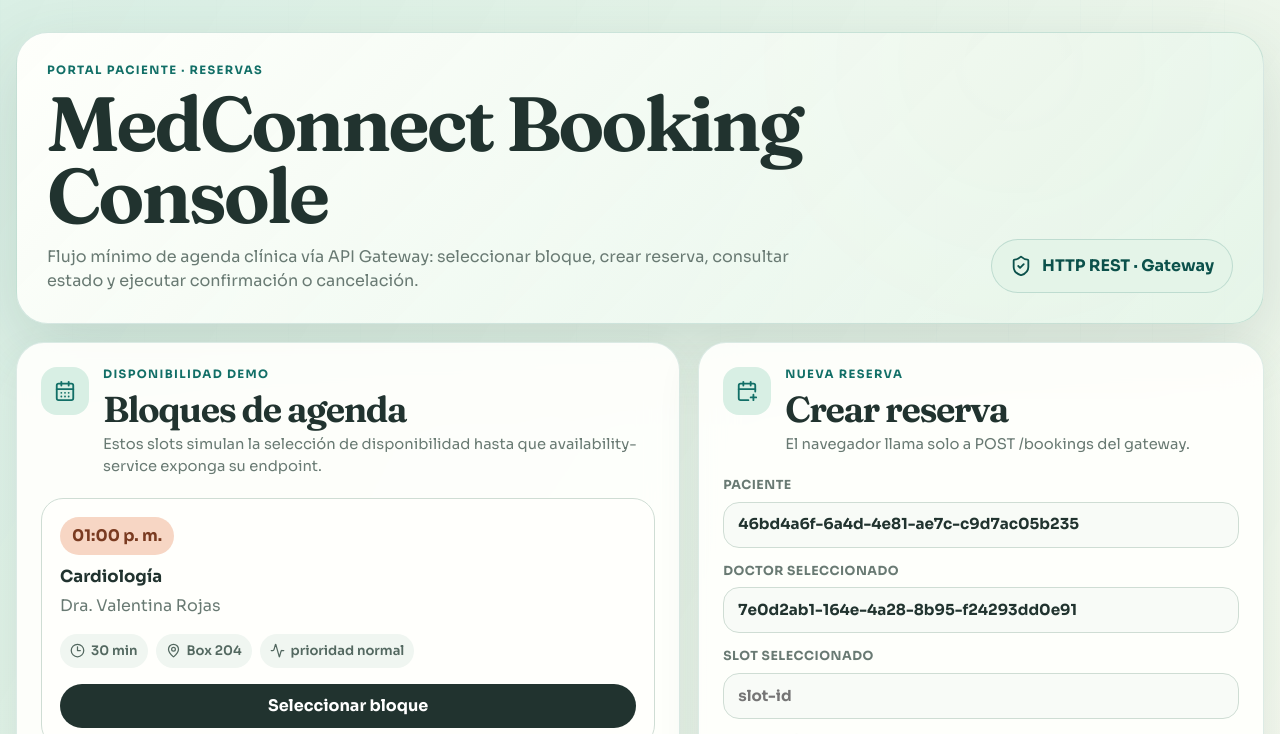
it: App › allows a patient to select a slot and manage a booking through the gateway
Click the button with aria-label "seleccionar bloque cardiología" at (348, 706), box [60,684,636,728]
(page scrolled)
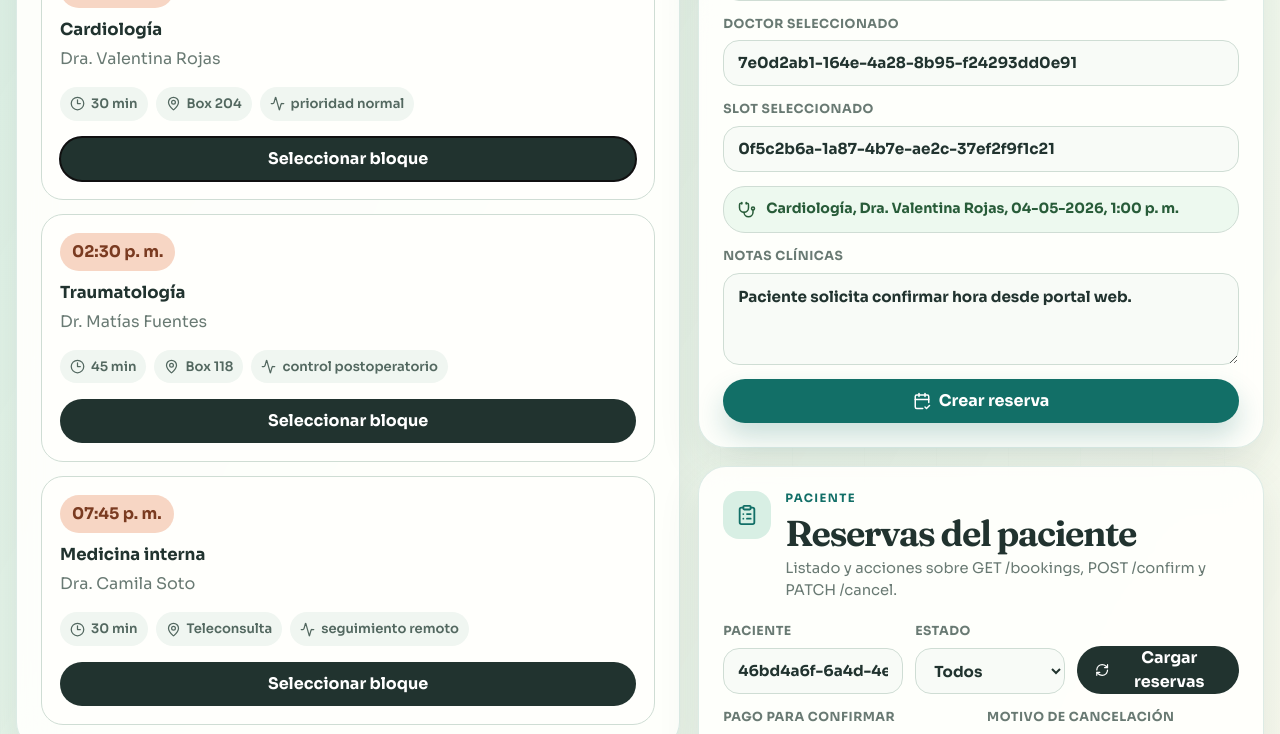
Now the field labelled "Slot seleccionado" holds "0f5c2b6a-1a87-4b7e-ae2c-37ef2f9f1c21", box [723,126,1239,172]
Click the button "Crear reserva" at (981, 401), box [723,379,1239,423]
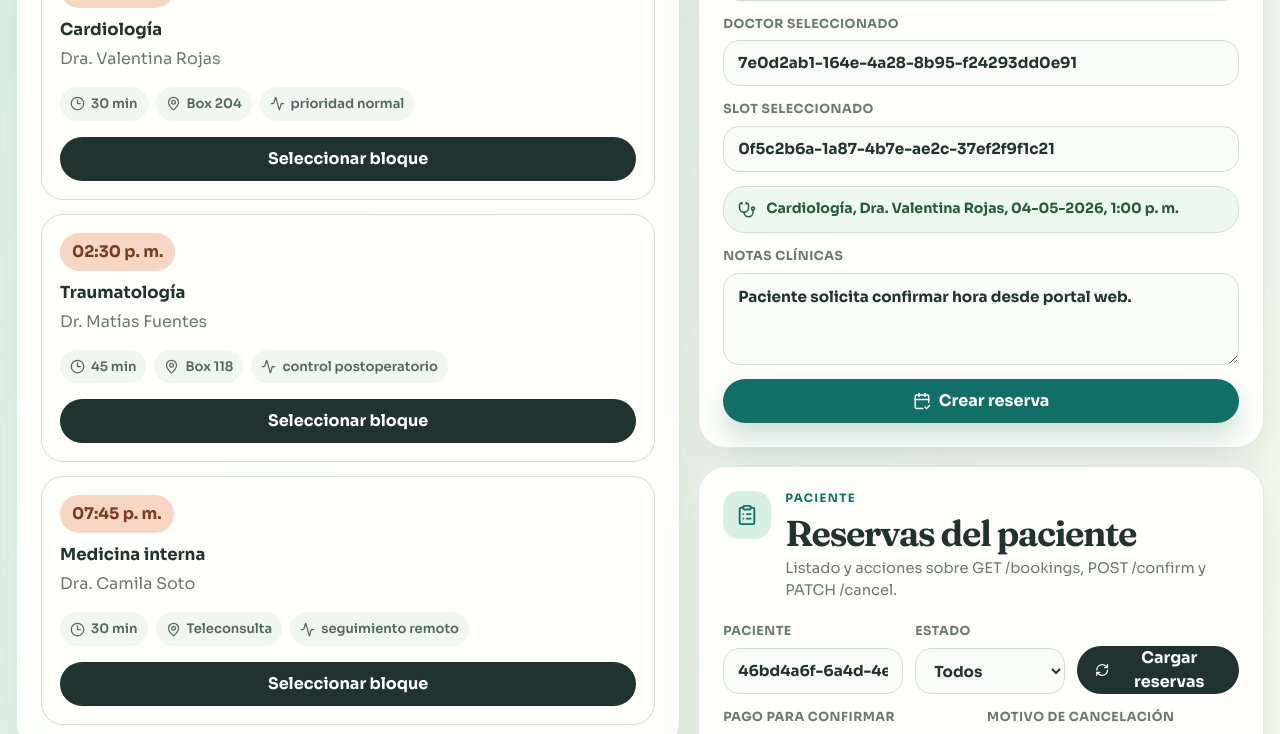
Click the button "Cargar reservas" at (1158, 670), box [1077,646,1239,694]
(page scrolled)
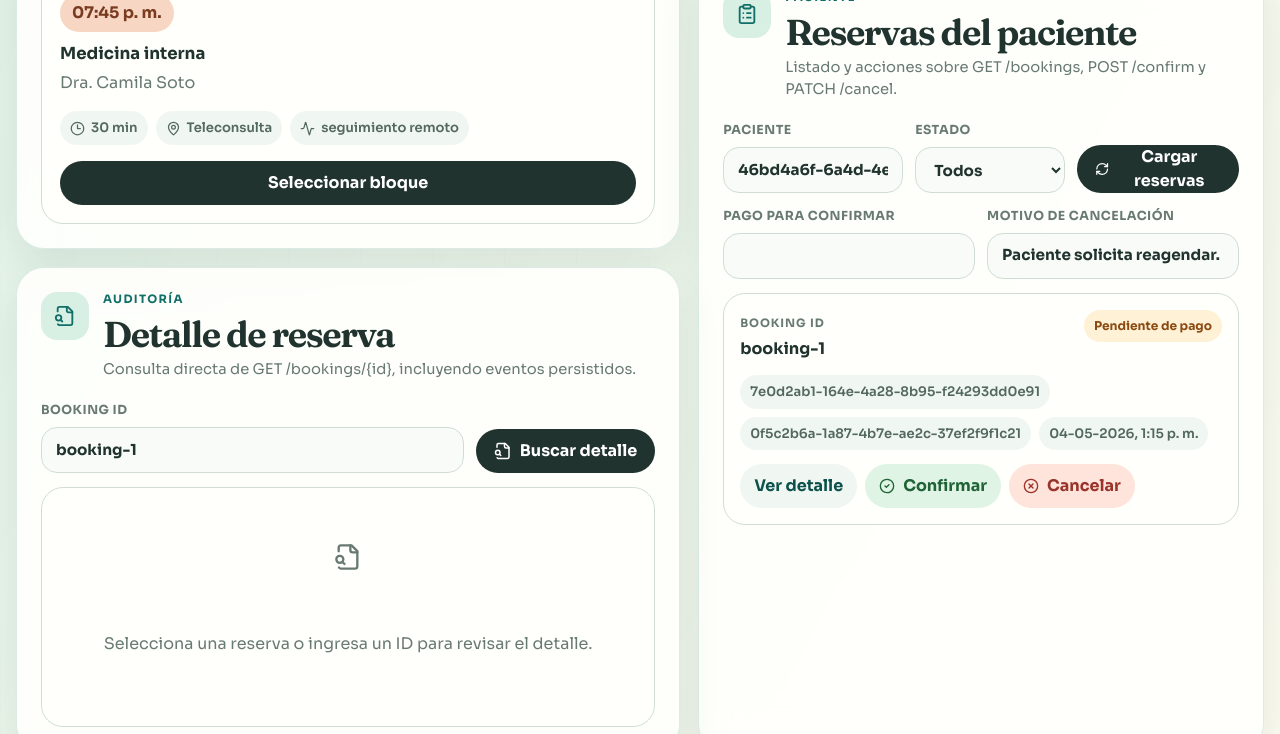
Now the text "booking-1" is shown, box [740,337,825,361]
Click the button with aria-label "ver detalle booking-1" at (799, 486), box [740,464,857,508]
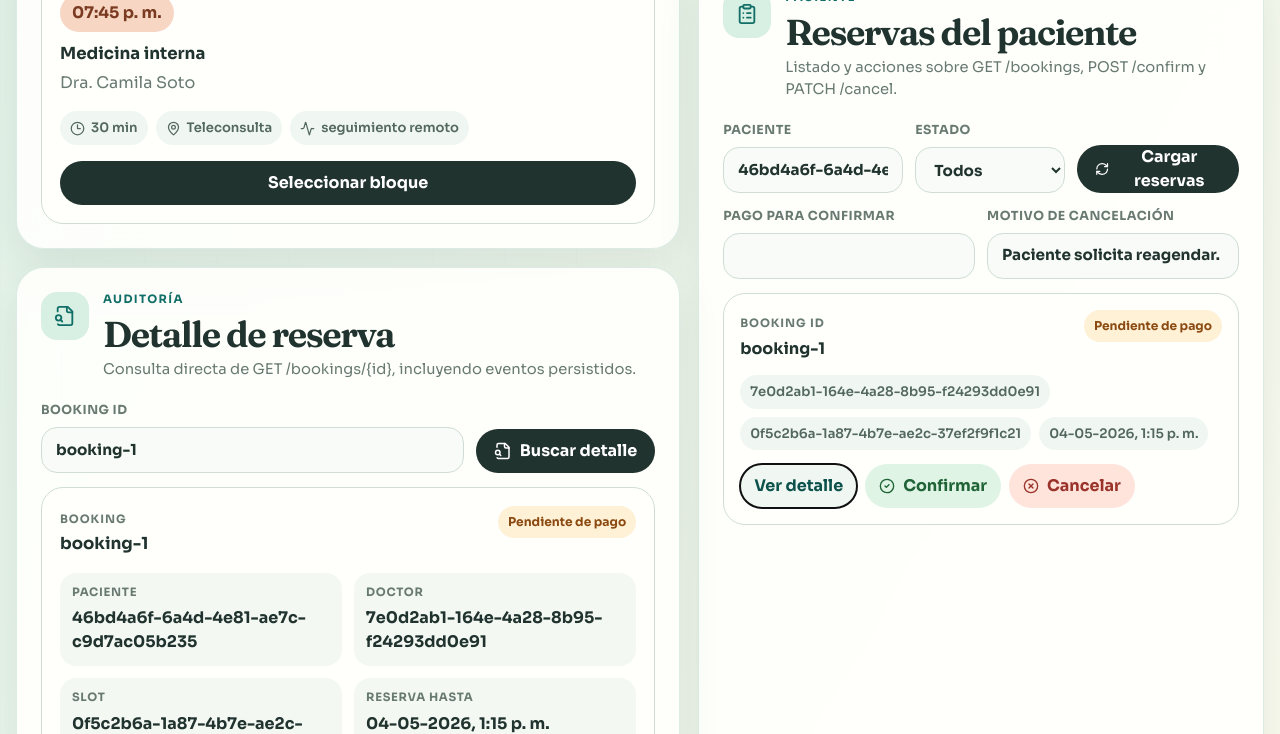
Type "payment-1" into the field labelled "Pago para confirmar" at (849, 256), box [723,233,975,279]
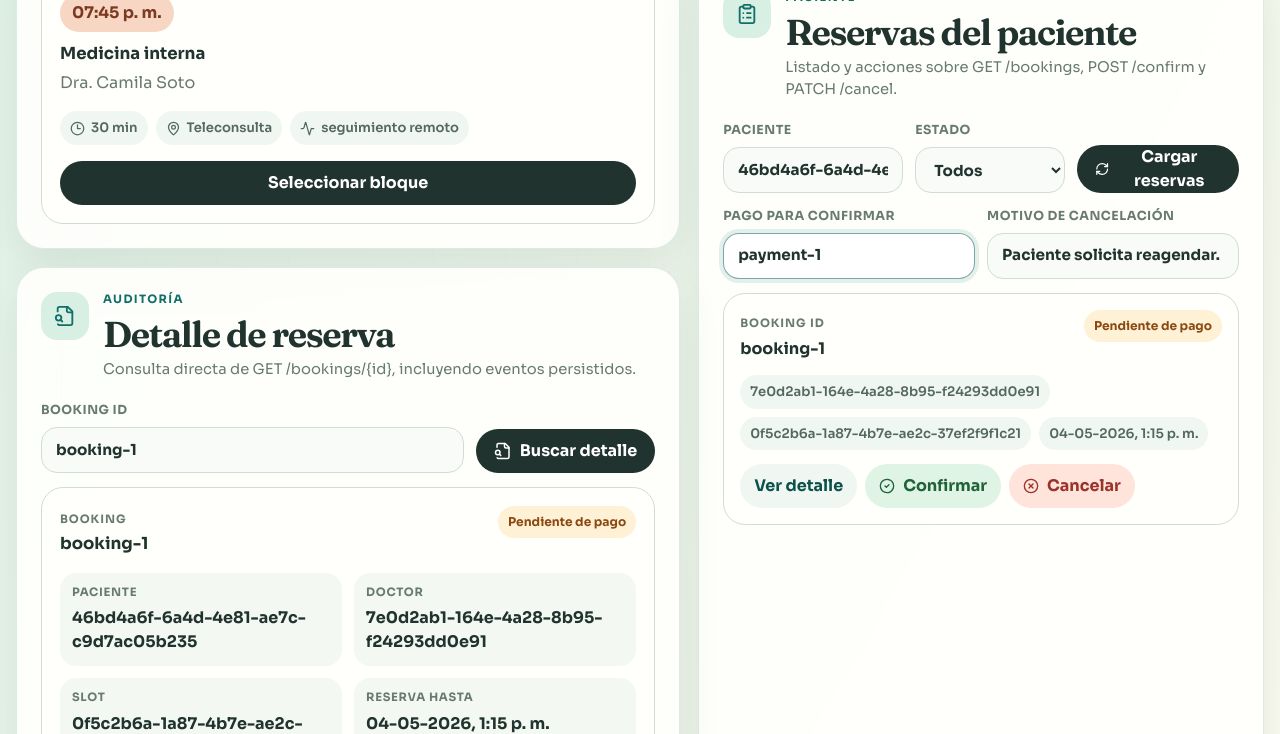
Click the button with aria-label "confirmar booking-1" at (933, 486), box [865,464,1001,508]
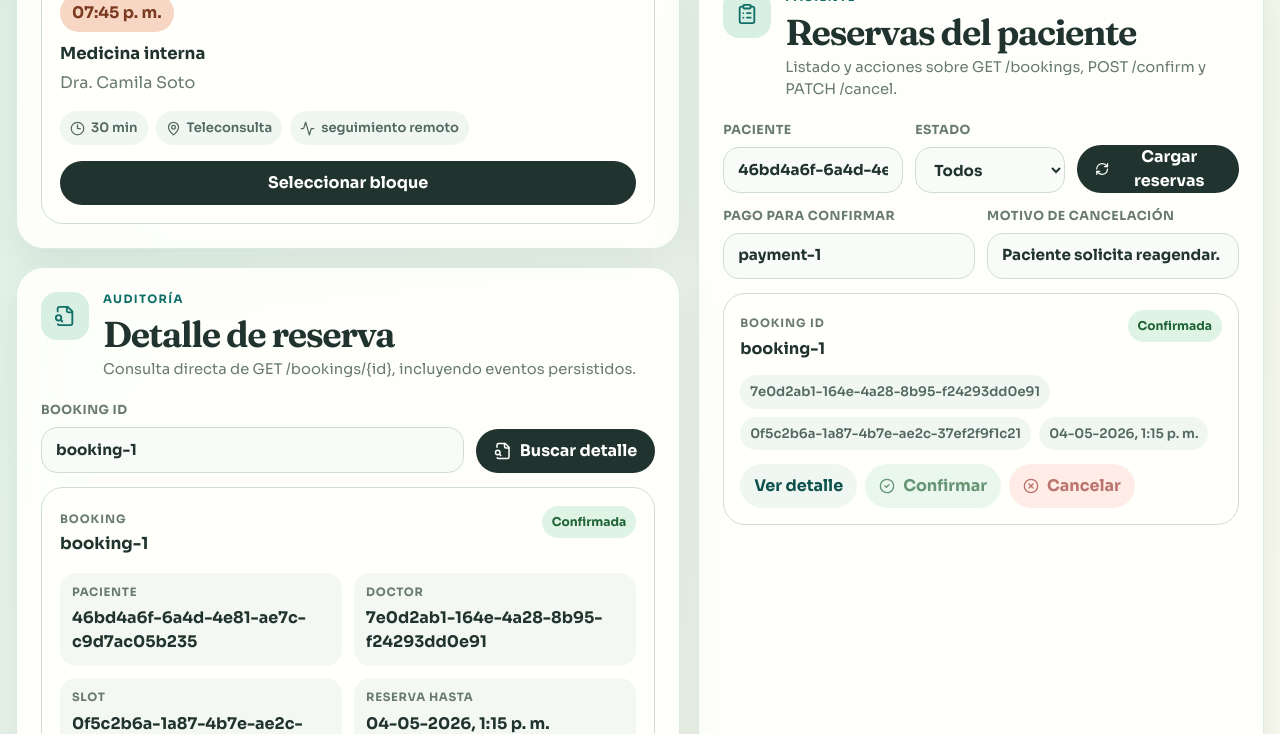
Now the button with aria-label "confirmar booking-1" is disabled, box [865,464,1001,508]
Now the button with aria-label "cancelar booking-1" is disabled, box [1009,464,1135,508]
